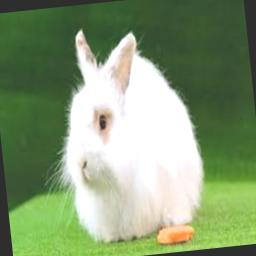rabbit: (61, 29, 202, 240)
